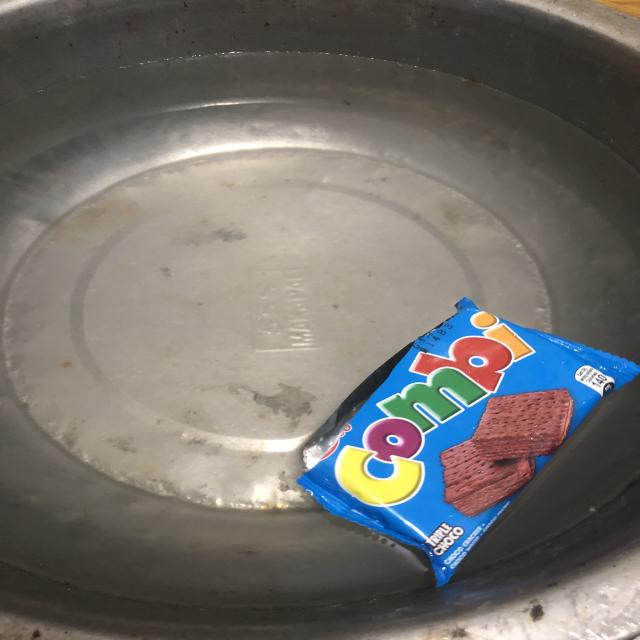Plastic Wrapper: (297, 298, 640, 586)
